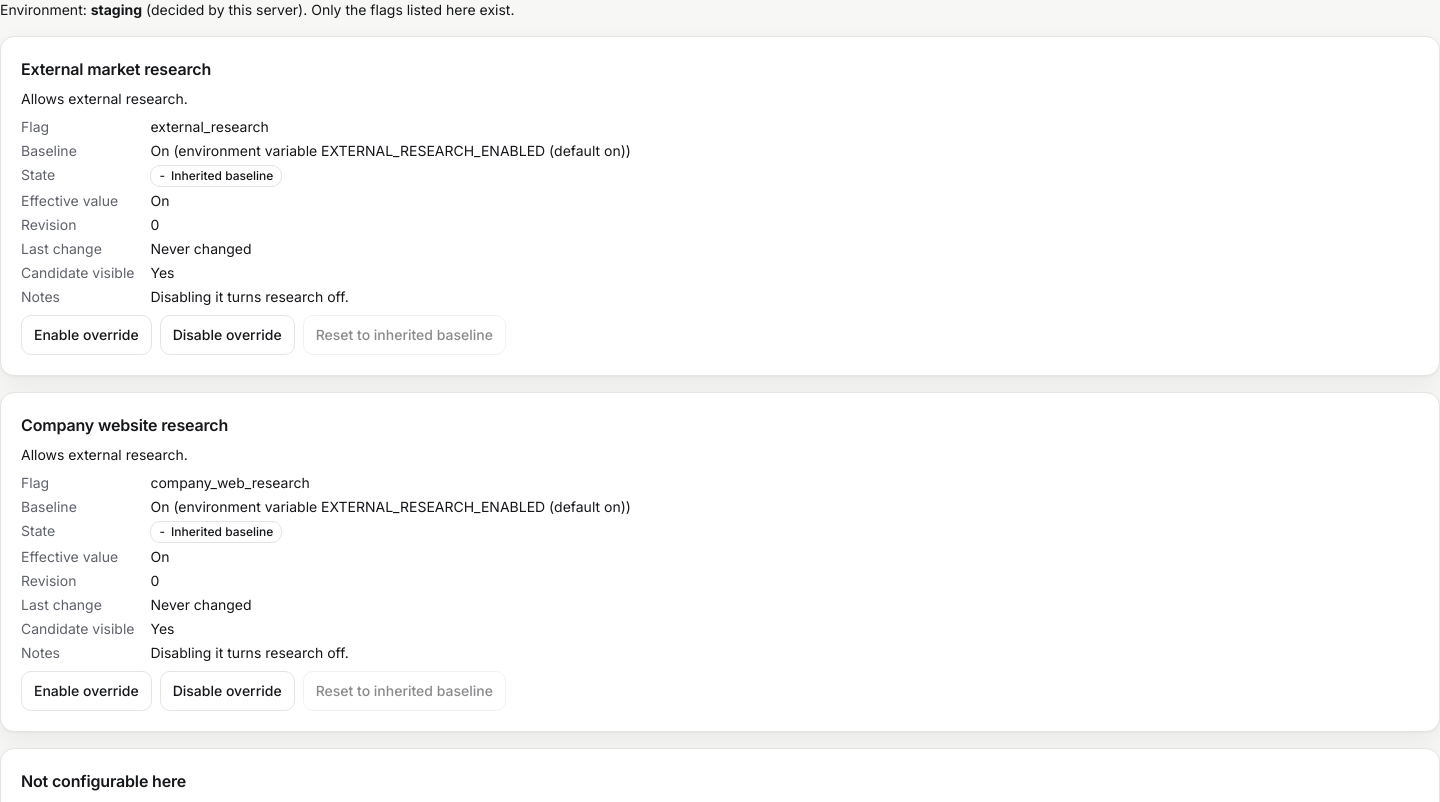
Test case: Admin Feature flags › disable override sends the loaded revision; reset is disabled when already inherited
The width and height of the screenshot is (1440, 802).
Click the button with aria-label "Disable override for External market research": [227, 335] box [160,315,295,355]
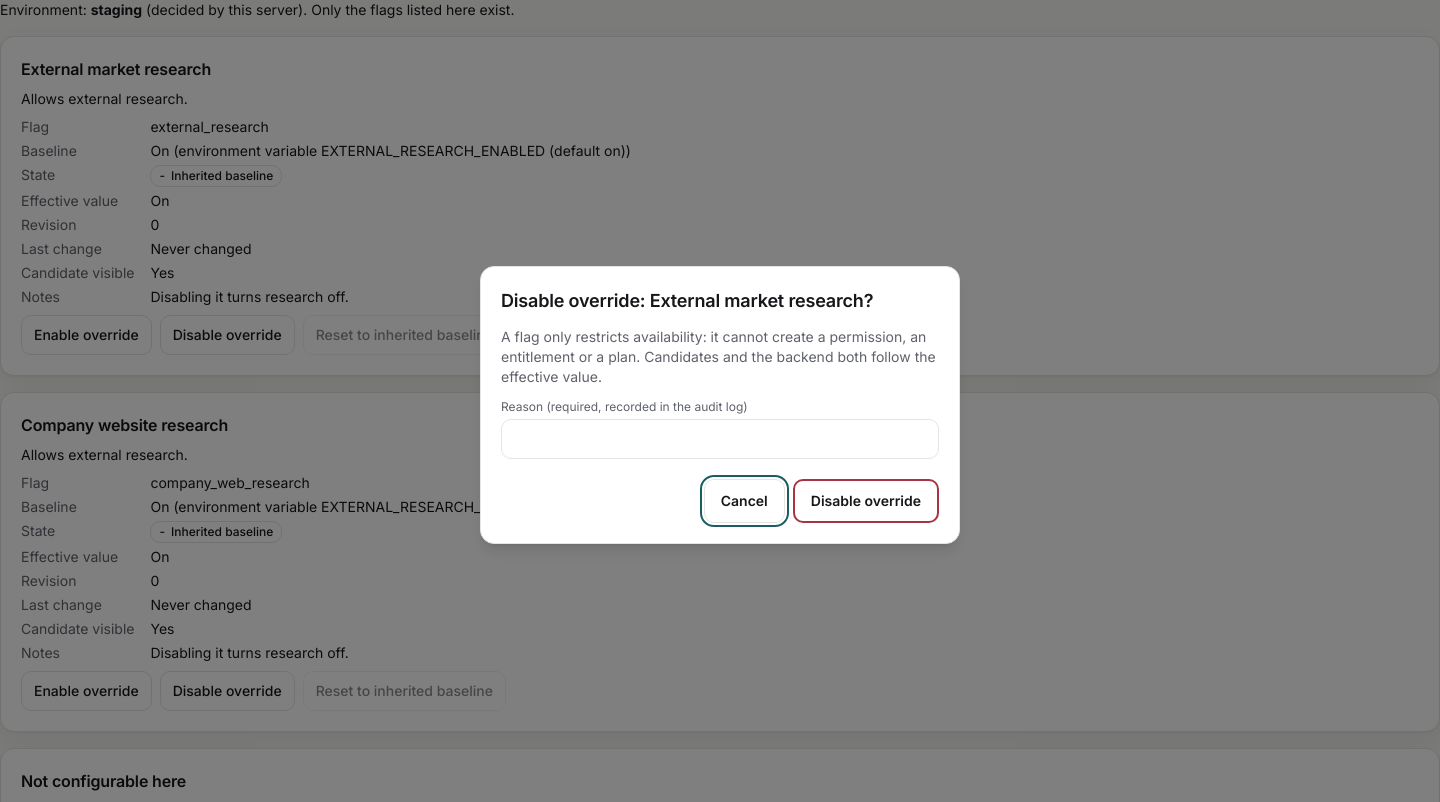
Check: the button with aria-label "Reset External market research to inherited baseline" is disabled, box [303,315,506,355]
In the field labelled "Reason (required, recorded in the audit log)": [720, 439] box [501,419,939,459], type "cost"
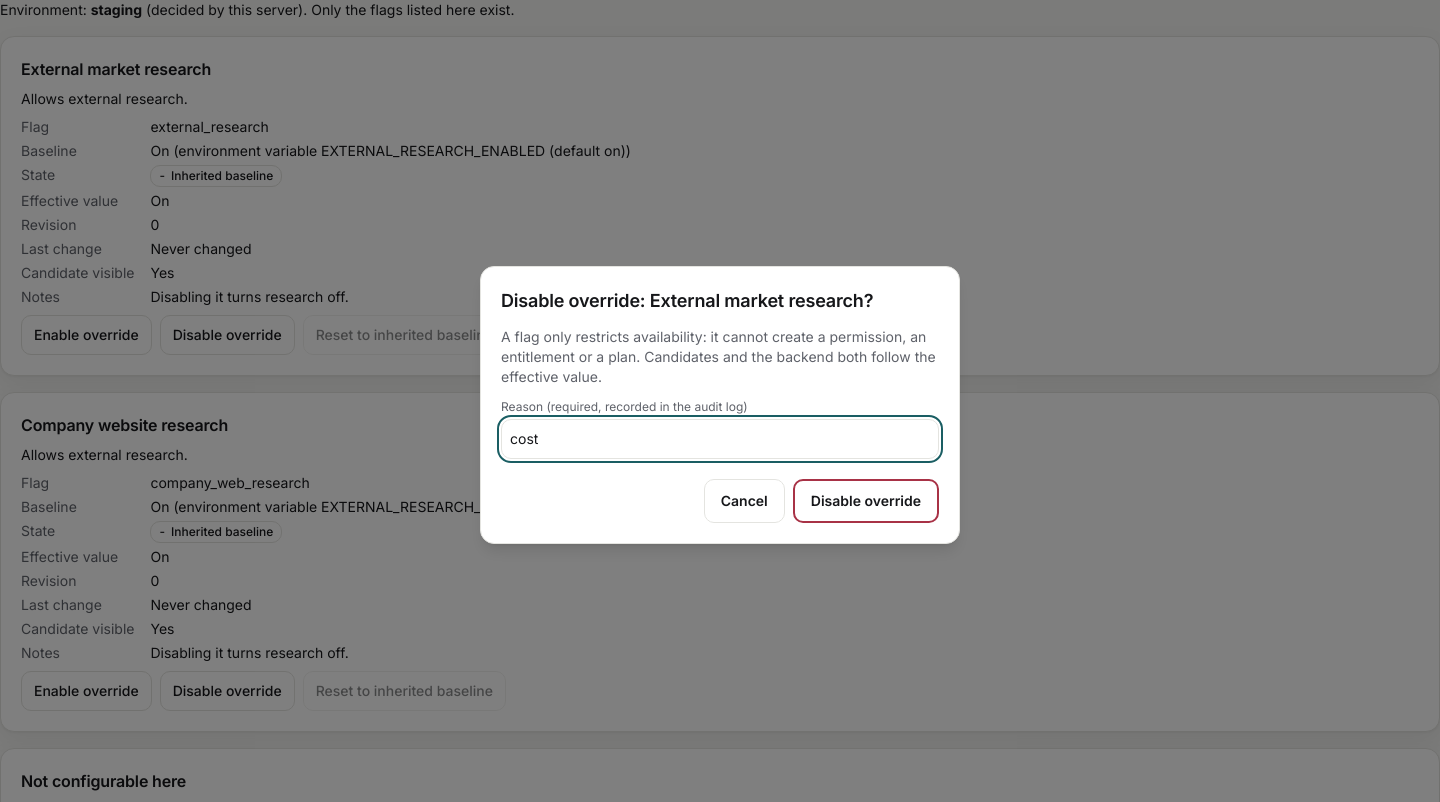
Click the button "Disable override": [866, 501] box [793,479,939,523]
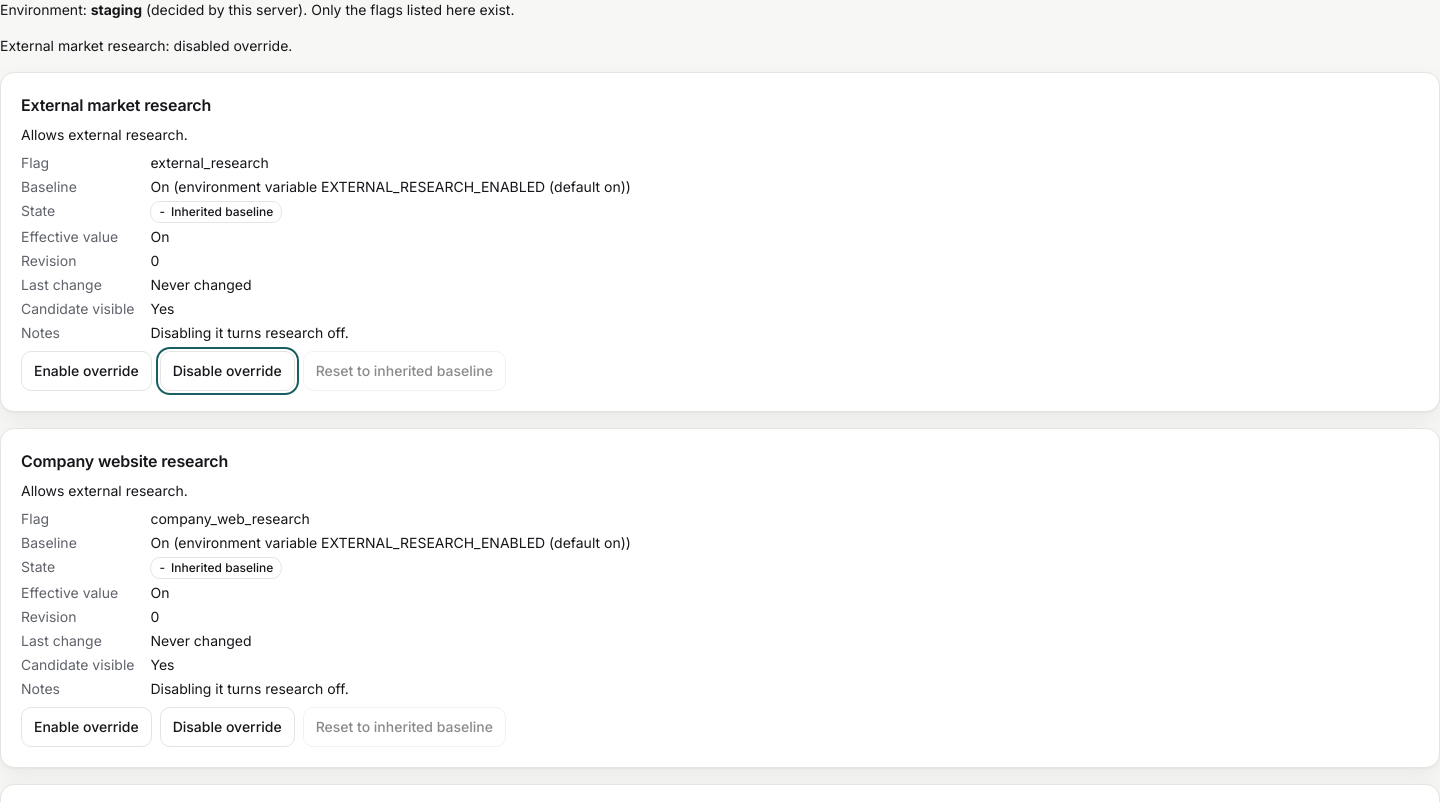
Check: the text "External market research: disabled override." is shown, box [0,37,292,54]
